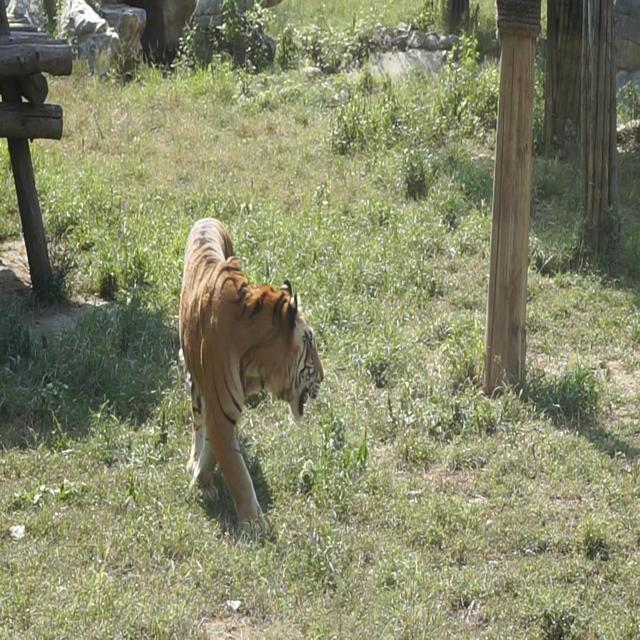tiger: (177, 216, 324, 538), (99, 0, 292, 73)
